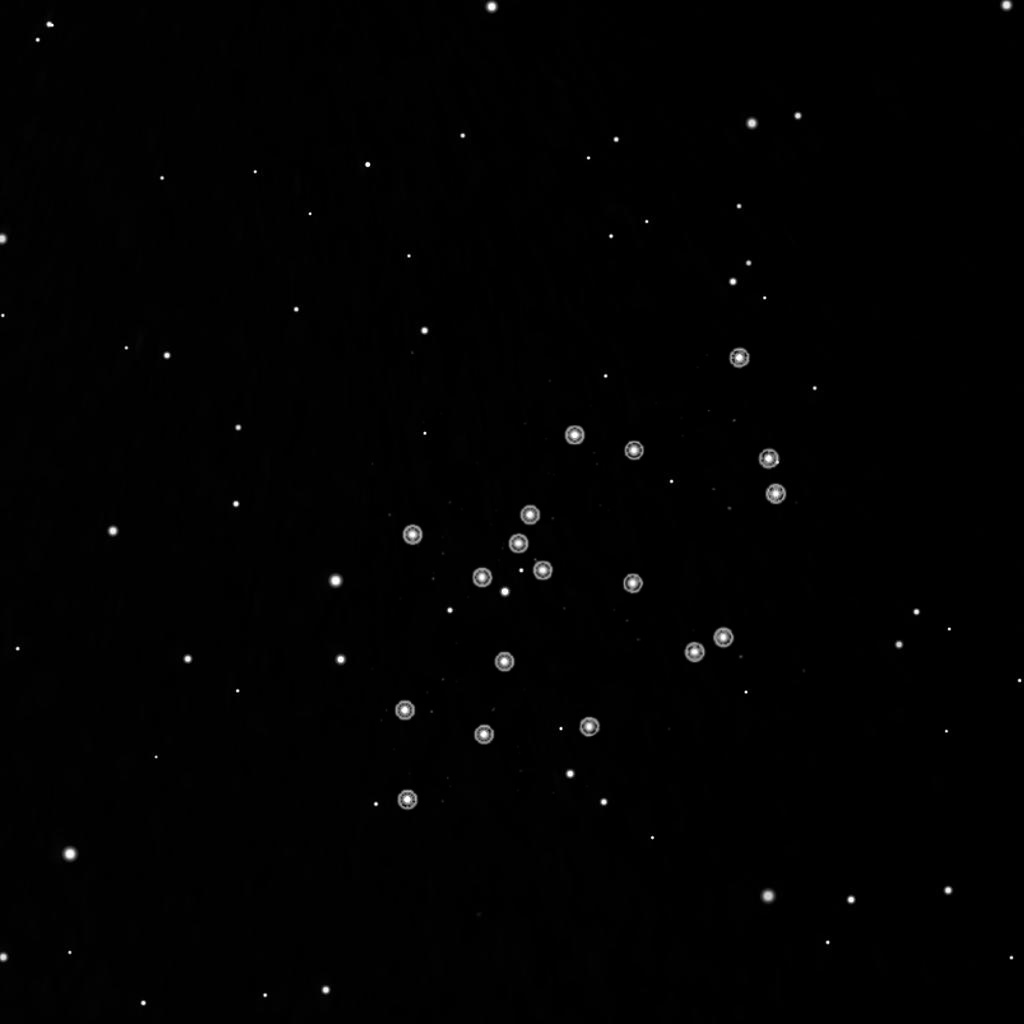canis_major: (466, 422, 645, 594)
